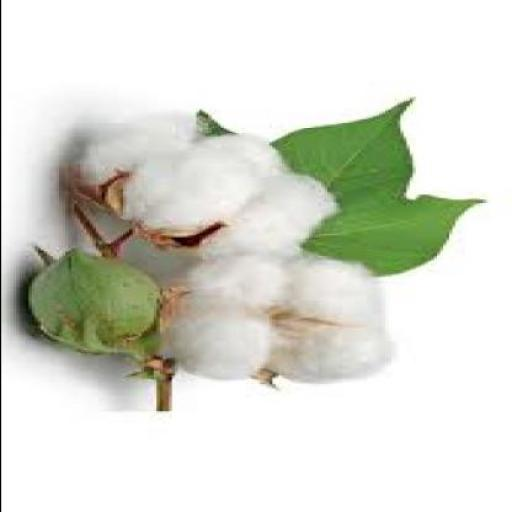cotton_ready: (36, 75, 354, 247), (131, 232, 406, 399)
